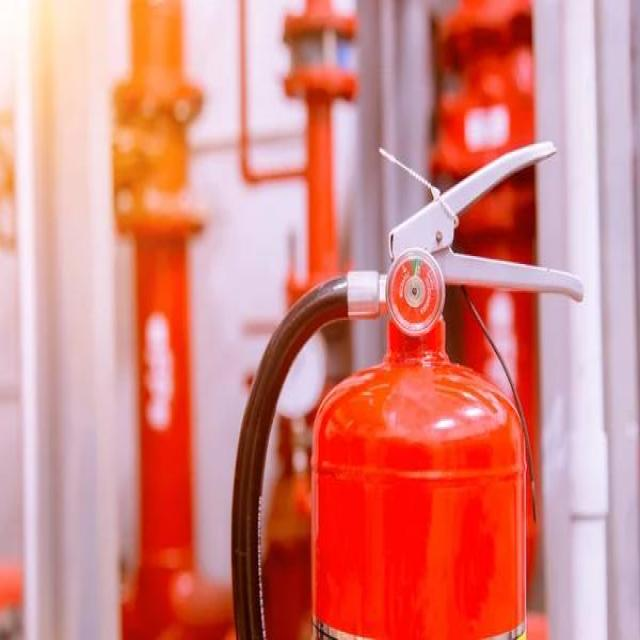fire_extinguisher: (228, 134, 589, 638)
